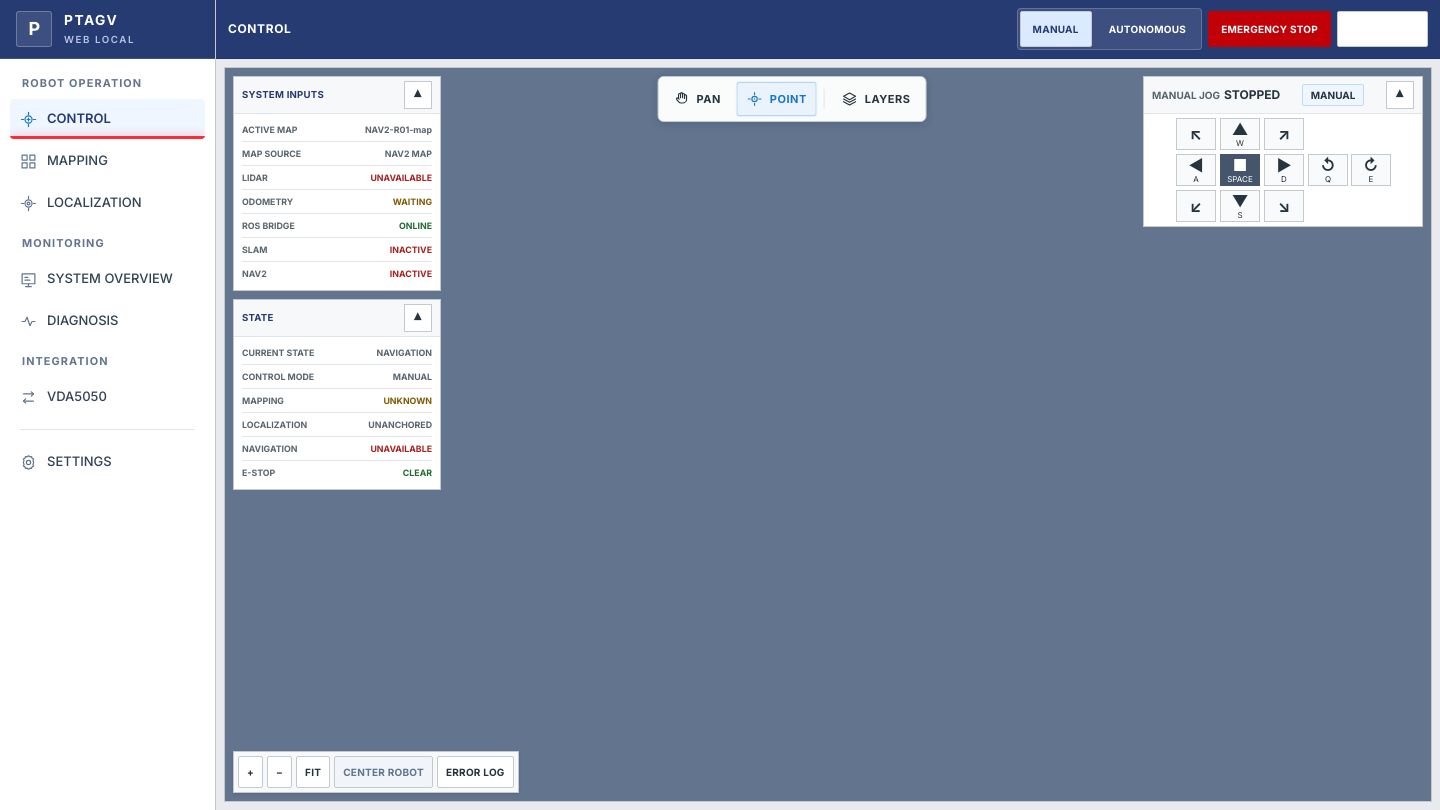
Scenario: robot detail route stability › shows CLEAR STOP as applied only after the correlated runtime result
The image size is (1440, 810).
What coordinates should you click on to do the following:
click the button "CLEAR STOP"
I would click on:
 (1382, 29)
Its box is [1337,11,1428,47].
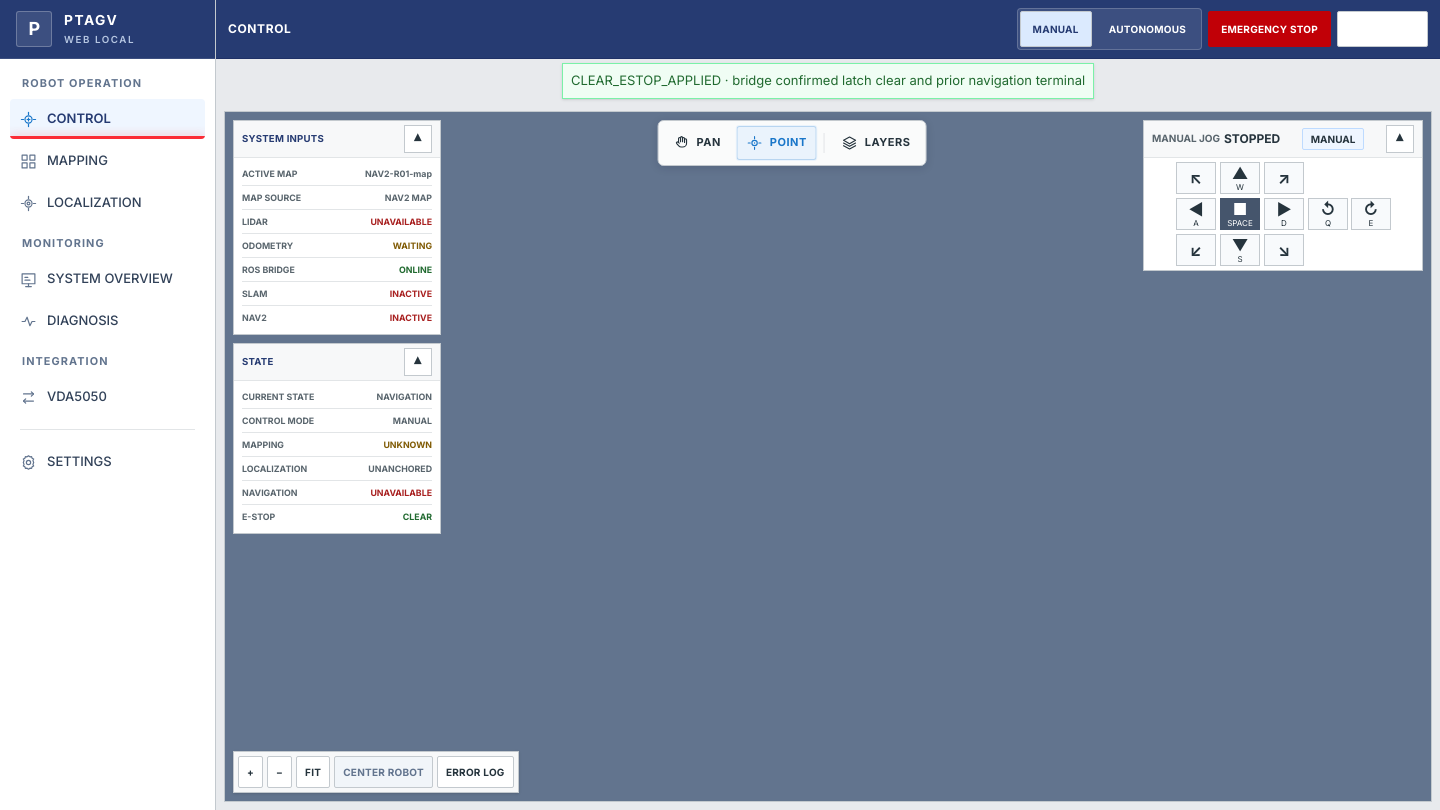
Check: the message shows "CLEAR_ESTOP_APPLIED · bridge confirmed latch clear", box [571,72,1085,88]
What coordinates should you click on to do the following:
click the button "CLEAR STOP"
I would click on:
 (1382, 29)
Its box is [1337,11,1428,47].
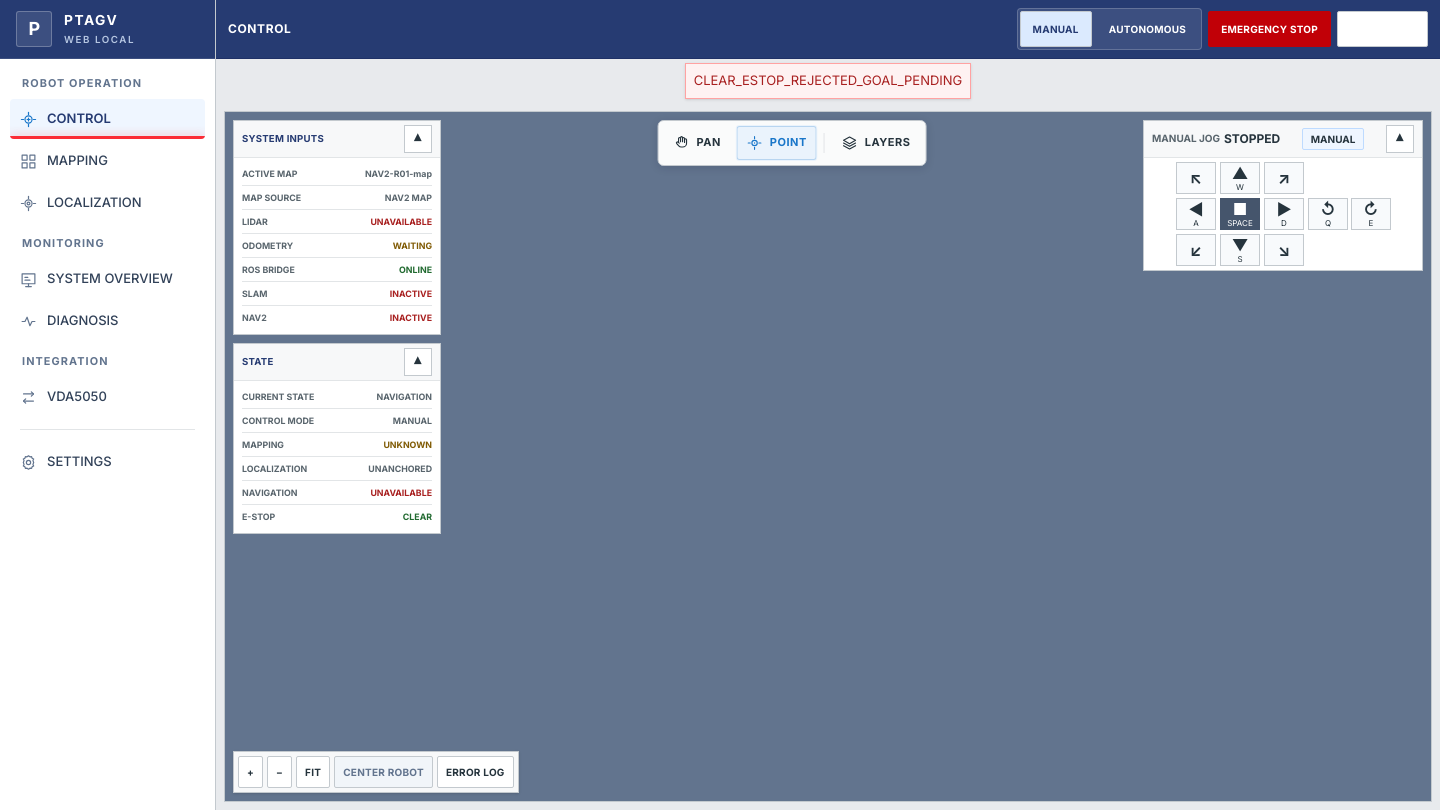
Check: the text "CLEAR_ESTOP_REJECTED_GOAL_PENDING" is shown, box [685,63,971,99]
